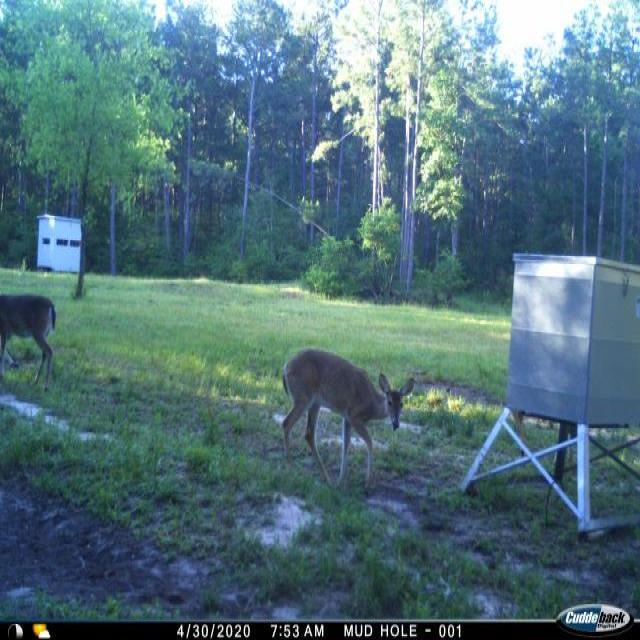deer: (274, 346, 418, 494), (0, 290, 60, 393)
